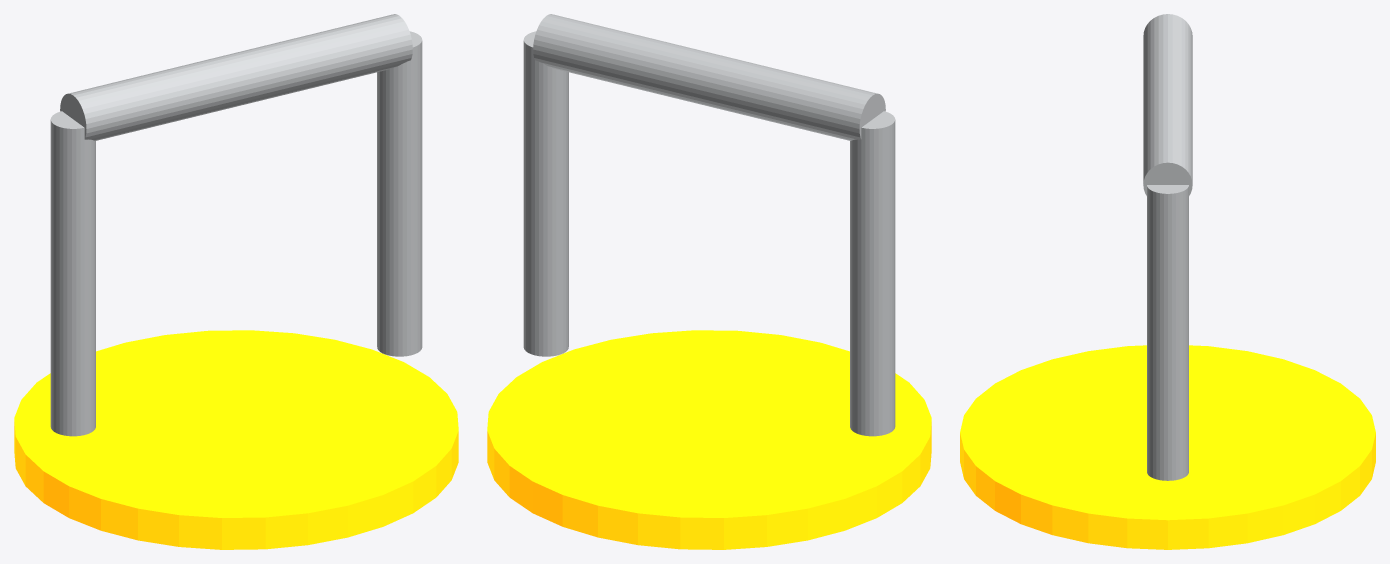
The model's file is fitness_parallel_bars.glb.
3 renders of one model, left to right at view 1: azimuth 30°, elevation 25°; view 2: azimuth 150°, elevation 25°; view 3: azimuth 270°, elevation 25°, orthographic. The views are drawn at different scales.
Visible parts, largest first — view 1: 02_15_Popular_Fitness_Parallel_Bars_ROOT_base, 02_15_Popular_Fitness_Parallel_Bars_part_03, 02_15_Popular_Fitness_Parallel_Bars_part_01, 02_15_Popular_Fitness_Parallel_Bars_part_02; view 2: 02_15_Popular_Fitness_Parallel_Bars_ROOT_base, 02_15_Popular_Fitness_Parallel_Bars_part_03, 02_15_Popular_Fitness_Parallel_Bars_part_01, 02_15_Popular_Fitness_Parallel_Bars_part_02; view 3: 02_15_Popular_Fitness_Parallel_Bars_ROOT_base, 02_15_Popular_Fitness_Parallel_Bars_part_02, 02_15_Popular_Fitness_Parallel_Bars_part_03.
Boxes of the visible parts, x1,y1,x2,y2 form: 02_15_Popular_Fitness_Parallel_Bars_ROOT_base: [14, 330, 458, 549]; 02_15_Popular_Fitness_Parallel_Bars_part_03: [60, 14, 412, 140]; 02_15_Popular_Fitness_Parallel_Bars_part_01: [50, 111, 95, 436]; 02_15_Popular_Fitness_Parallel_Bars_part_02: [377, 31, 422, 356]; 02_15_Popular_Fitness_Parallel_Bars_ROOT_base: [487, 330, 931, 549]; 02_15_Popular_Fitness_Parallel_Bars_part_03: [533, 14, 885, 140]; 02_15_Popular_Fitness_Parallel_Bars_part_01: [850, 111, 895, 436]; 02_15_Popular_Fitness_Parallel_Bars_part_02: [523, 31, 568, 356]; 02_15_Popular_Fitness_Parallel_Bars_ROOT_base: [960, 345, 1375, 549]; 02_15_Popular_Fitness_Parallel_Bars_part_02: [1147, 185, 1188, 480]; 02_15_Popular_Fitness_Parallel_Bars_part_03: [1143, 14, 1192, 195].
Size of the model in its own units: 0.76 by 0.7536 by 0.76.
